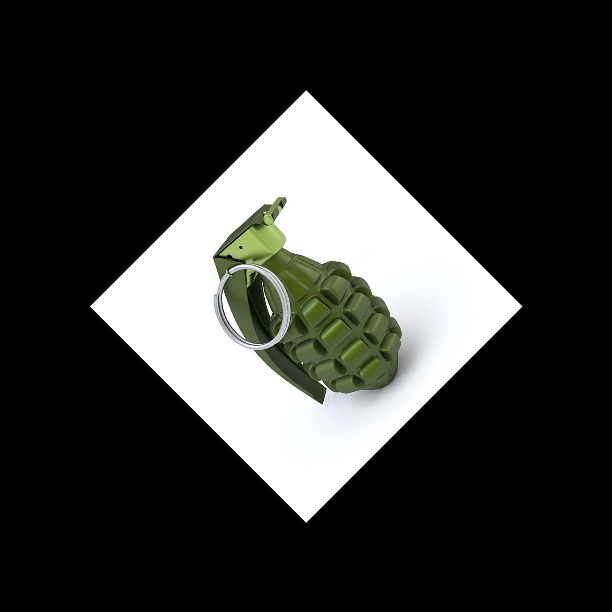e1: (210, 197, 402, 403)
